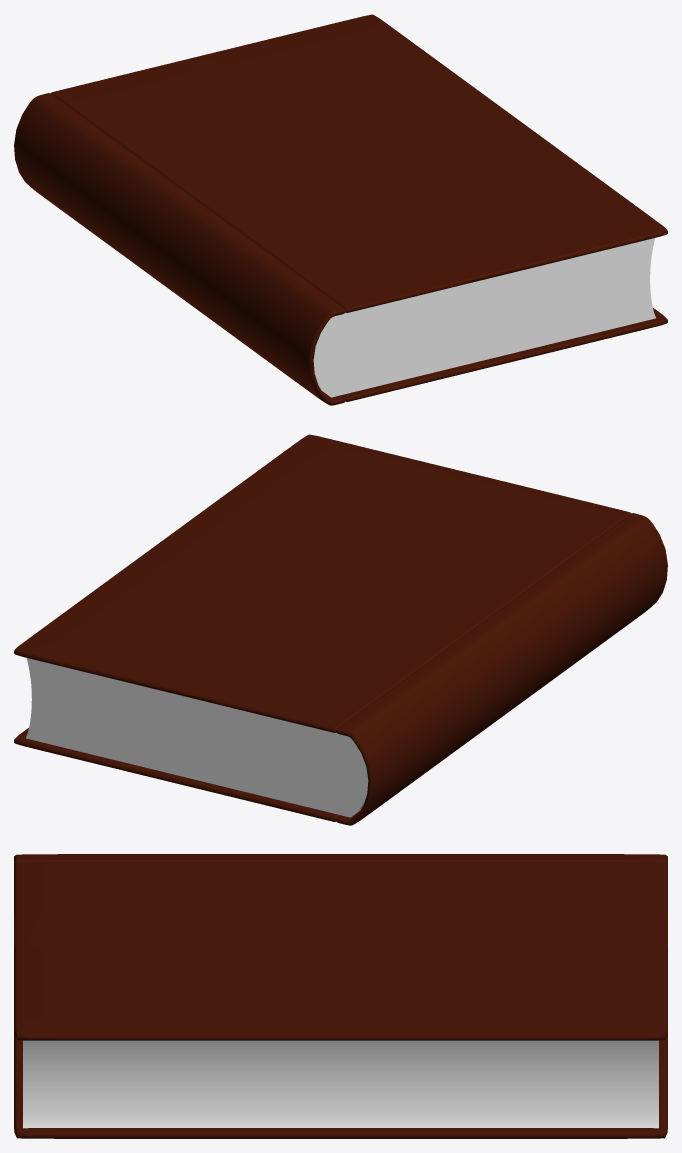
The model's file is book.FBX.
The picture shows the model from 3 angles, top to bottom: view 1: azimuth 30°, elevation 25°; view 2: azimuth 150°, elevation 25°; view 3: azimuth 270°, elevation 25°; orthographic projection. The views are drawn at different scales.
Visible parts, largest first — view 1: Line043, Line038; view 2: Line043, Line038; view 3: Line043, Line038.
Part boxes in pixels (left/top/right/bottom): Line043: left=14, top=14, right=667, bottom=405; Line038: left=313, top=238, right=655, bottom=397; Line043: left=14, top=434, right=667, bottom=825; Line038: left=26, top=658, right=368, bottom=817; Line043: left=14, top=854, right=667, bottom=1138; Line038: left=23, top=1040, right=658, bottom=1128.
Bounding box in the file's own units: 57.39 × 14.44 × 81.71.
